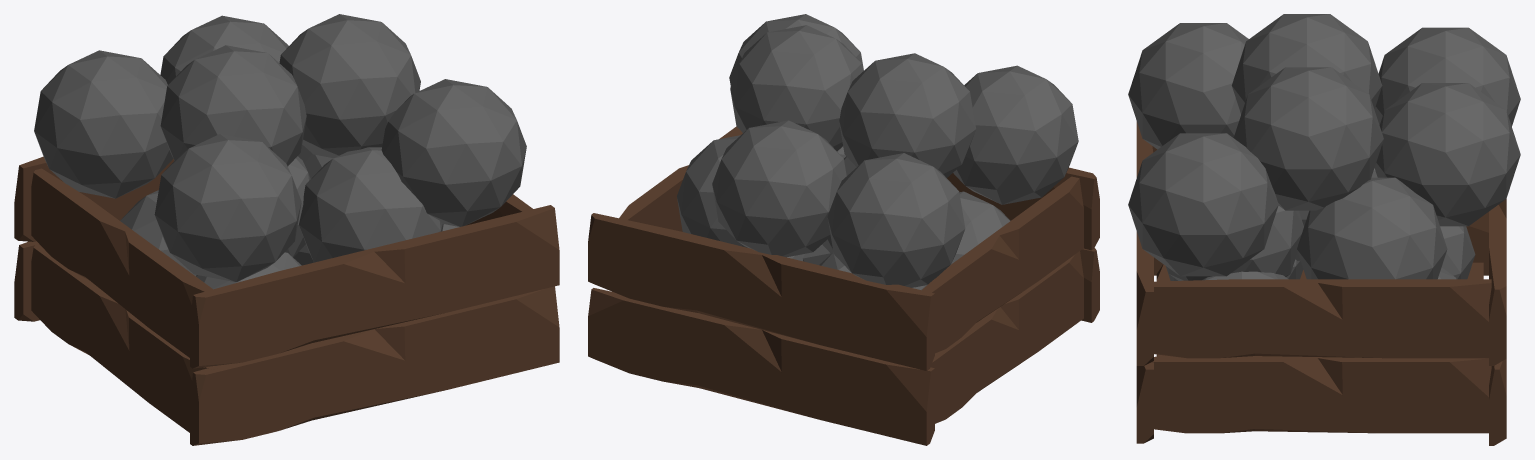
File: HighBulletBox.fbx
The picture shows the model from 3 angles, left to right: view 1: azimuth 30°, elevation 25°; view 2: azimuth 150°, elevation 25°; view 3: azimuth 270°, elevation 25°; orthographic projection. The views are drawn at different scales.
Parts seen in each view (by area): view 1: Bullet, WoodenBox; view 2: WoodenBox, Bullet; view 3: Bullet, WoodenBox.
Part boxes in pixels (x1=…): Bullet: x1=34, y1=14, x2=526, y2=365; WoodenBox: x1=14, y1=156, x2=559, y2=445; WoodenBox: x1=588, y1=126, x2=1099, y2=445; Bullet: x1=677, y1=14, x2=1078, y2=290; Bullet: x1=1128, y1=14, x2=1520, y2=280; WoodenBox: x1=1136, y1=121, x2=1506, y2=445.
Size of the model in its own units: 154 by 127 by 144.
